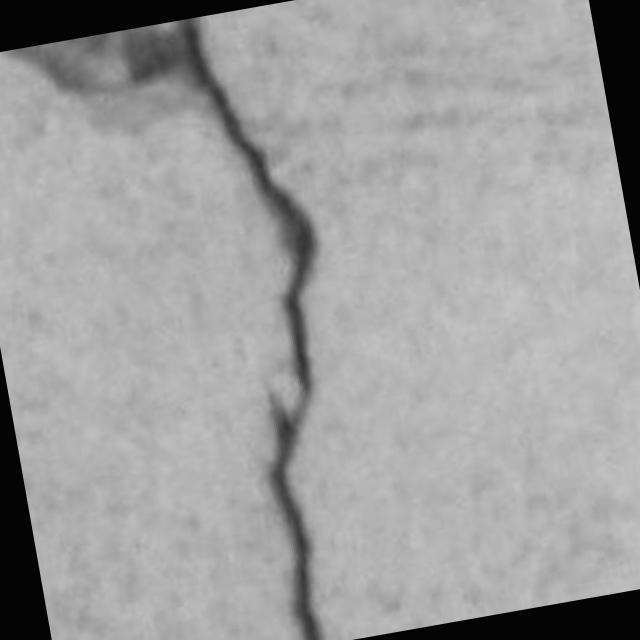crack: (6, 17, 323, 639), (179, 17, 323, 639)
